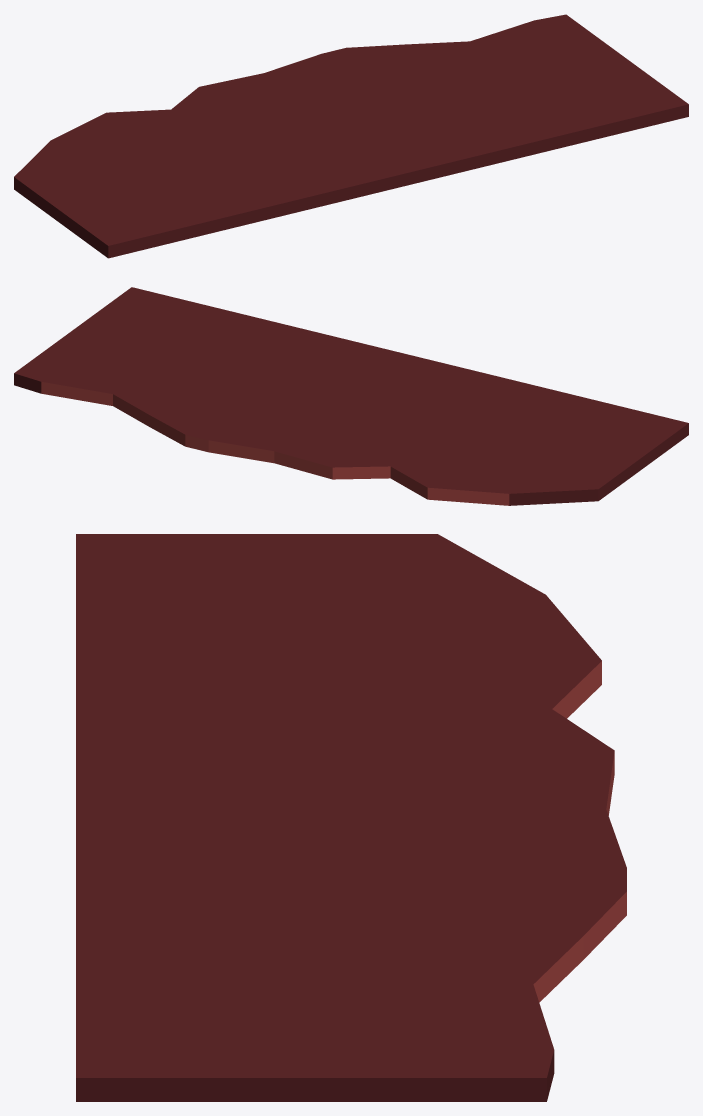
Rendered from Water.fbx.
3 renders of one model, top to bottom at view 1: azimuth 30°, elevation 25°; view 2: azimuth 150°, elevation 25°; view 3: azimuth 270°, elevation 25°, orthographic. The views are drawn at different scales.
Visible parts, largest first — view 1: Water; view 2: Water; view 3: Water.
Part boxes in pixels (x1,y1,x2,y2): Water: [14, 14, 688, 258]; Water: [14, 287, 688, 505]; Water: [76, 534, 626, 1101].
Size of the model in its own units: 11930 by 246 by 5111.
